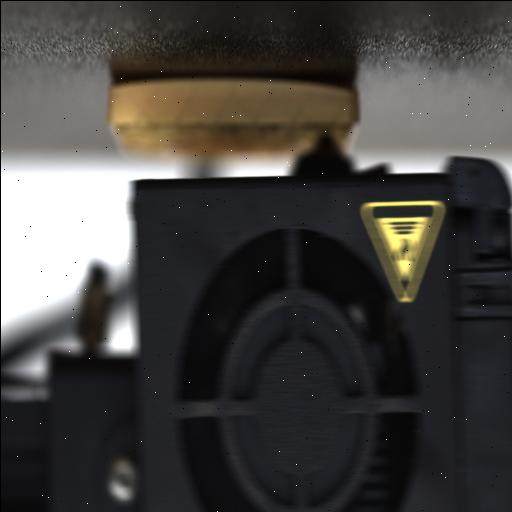warp: (302, 75, 360, 103)
